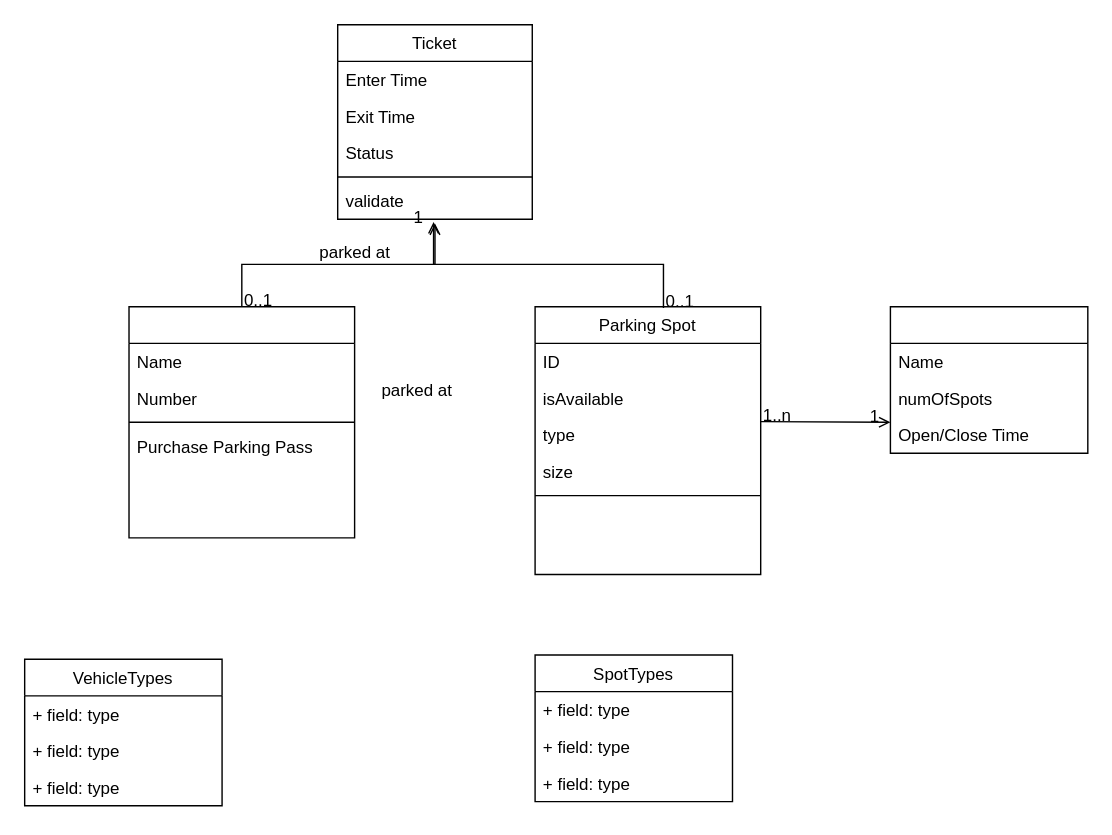
This 1112x835 diagram has some shape labels left out. Each missing label, with the box of its shape:
Parking Garage: (889, 305, 1088, 453)
Vehicle: (128, 305, 355, 538)
